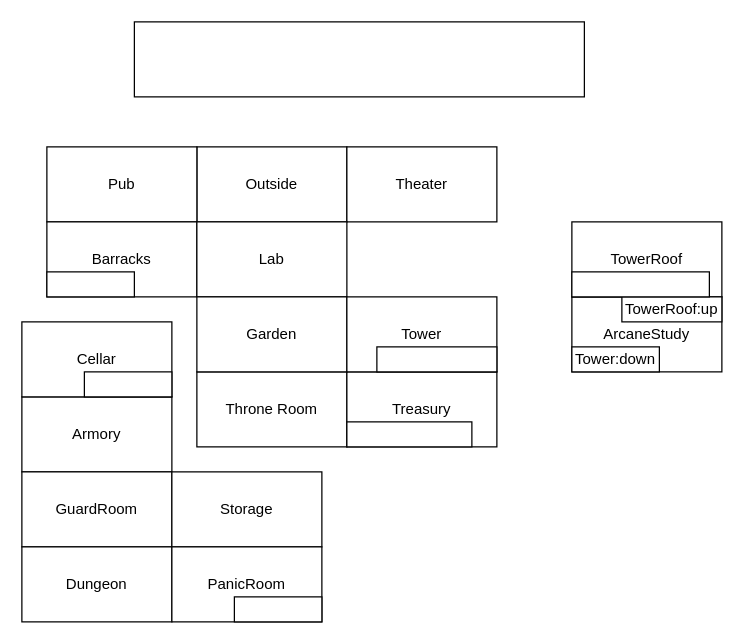
This 744x644 diagram has some shape labels left out. Each missing label, with the centre of its shape:
ArcaneStude:Down: the point at 640,284
ArcaneStudy:up: the point at 436,359
Barracks:up: the point at 127,384
Cellar:down: the point at 90,284
PanicRoom:down: the point at 409,434
This Is not Implemented fully, Rooms are created but not linked yet.: the point at 358,59
Treasury:up: the point at 277,609
